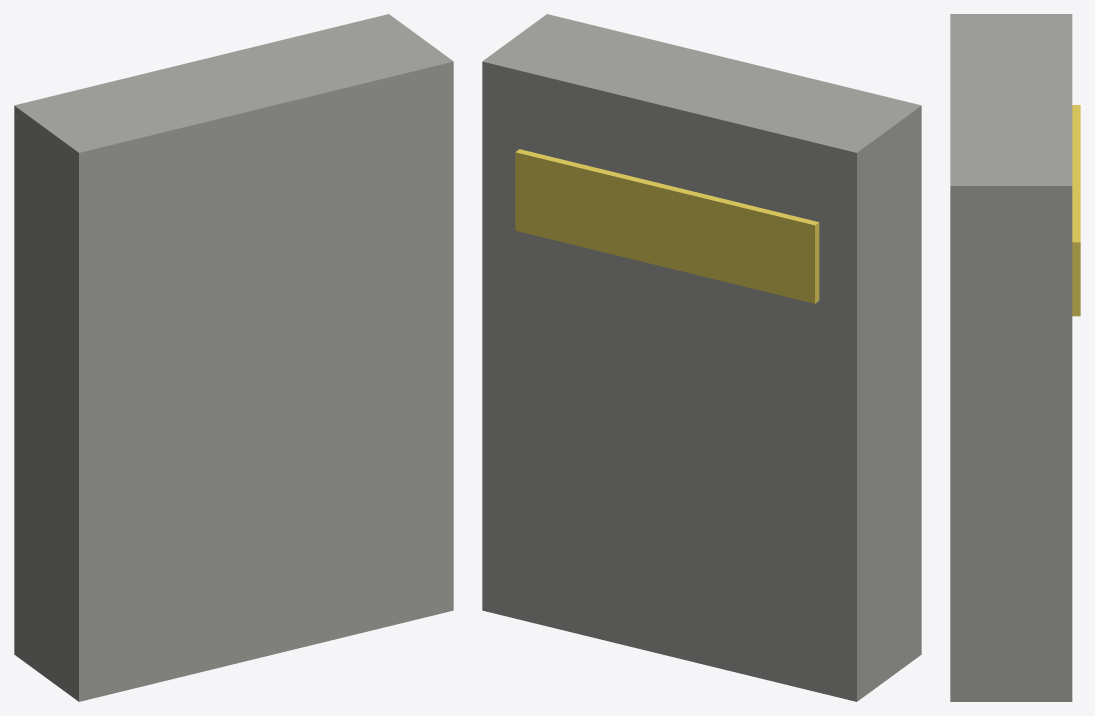
File: fuse_box.gltf
The picture shows the model from 3 angles, left to right: view 1: azimuth 30°, elevation 25°; view 2: azimuth 150°, elevation 25°; view 3: azimuth 270°, elevation 25°; orthographic projection. The views are drawn at different scales.
Parts seen in each view (by area): view 1: fuse_box; view 2: fuse_box; view 3: fuse_box.
Part boxes in pixels (x1,y1,x2,y2): fuse_box: (14, 14, 453, 701); fuse_box: (482, 14, 921, 701); fuse_box: (950, 14, 1080, 701).
Size of the model in its own units: 0.5 by 0.7 by 0.16.
